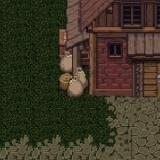Obstacle: (52, 0, 160, 132)
